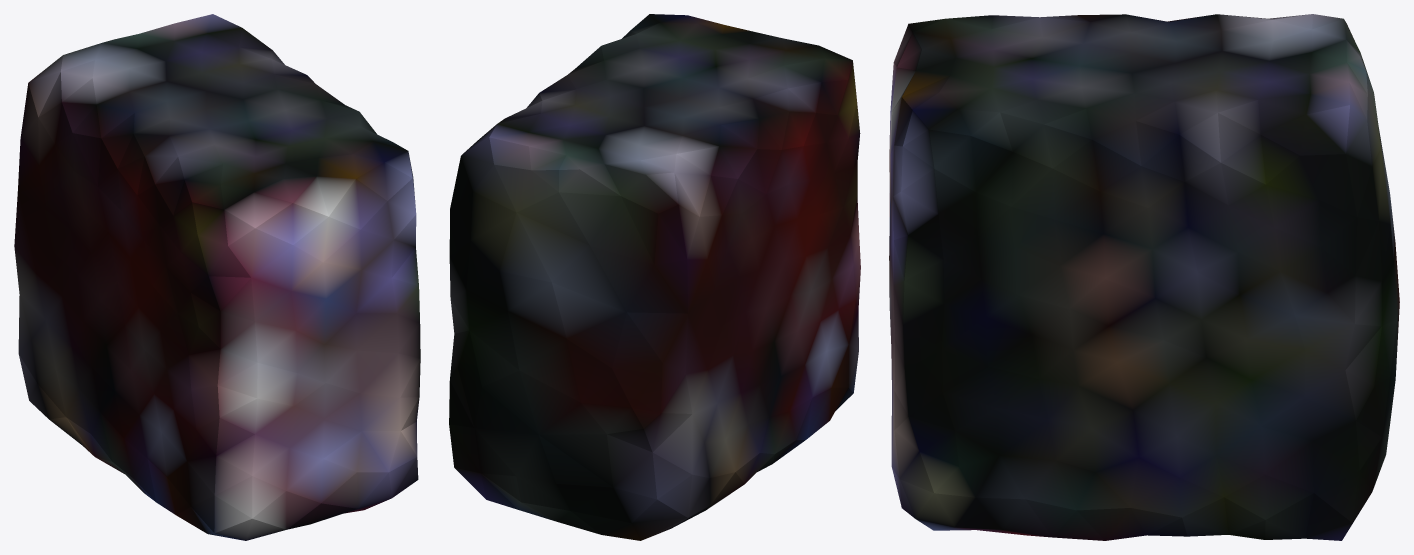
File: tchibo-box.dae
The picture shows the model from 3 angles, left to right: view 1: azimuth 30°, elevation 25°; view 2: azimuth 150°, elevation 25°; view 3: azimuth 270°, elevation 25°; orthographic projection. The views are drawn at different scales.
Parts seen in each view (by area): view 1: node; view 2: node; view 3: node.
Part boxes in pixels (x1,y1,x2,y2): node: (14, 14, 420, 540); node: (449, 14, 860, 540); node: (889, 14, 1399, 540).
Size of the model in its own units: 0.271 by 0.4047 by 0.4294.
